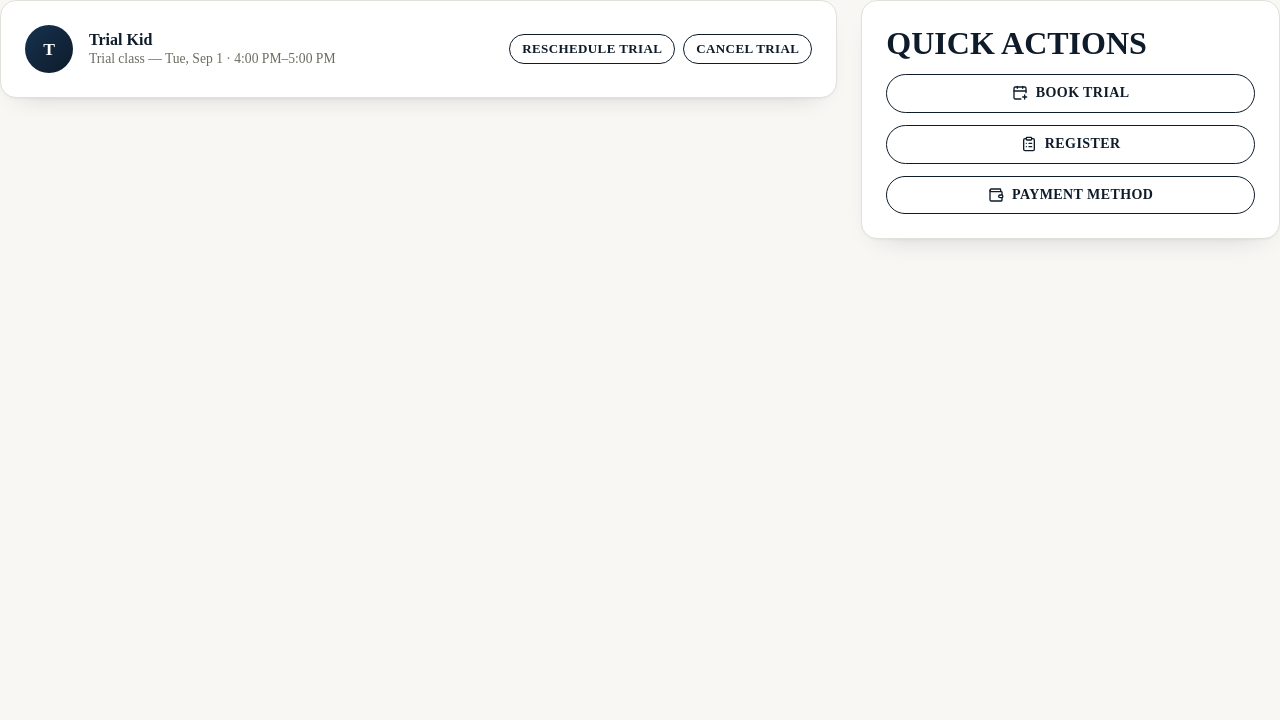
Test case: ParentDashboardPage › trial Reschedule / Cancel › cancels the trial and reloads the household, so the child is offered a new trial
Click the button "Cancel trial".
click(748, 49)  # box left=683, top=34, right=812, bottom=64
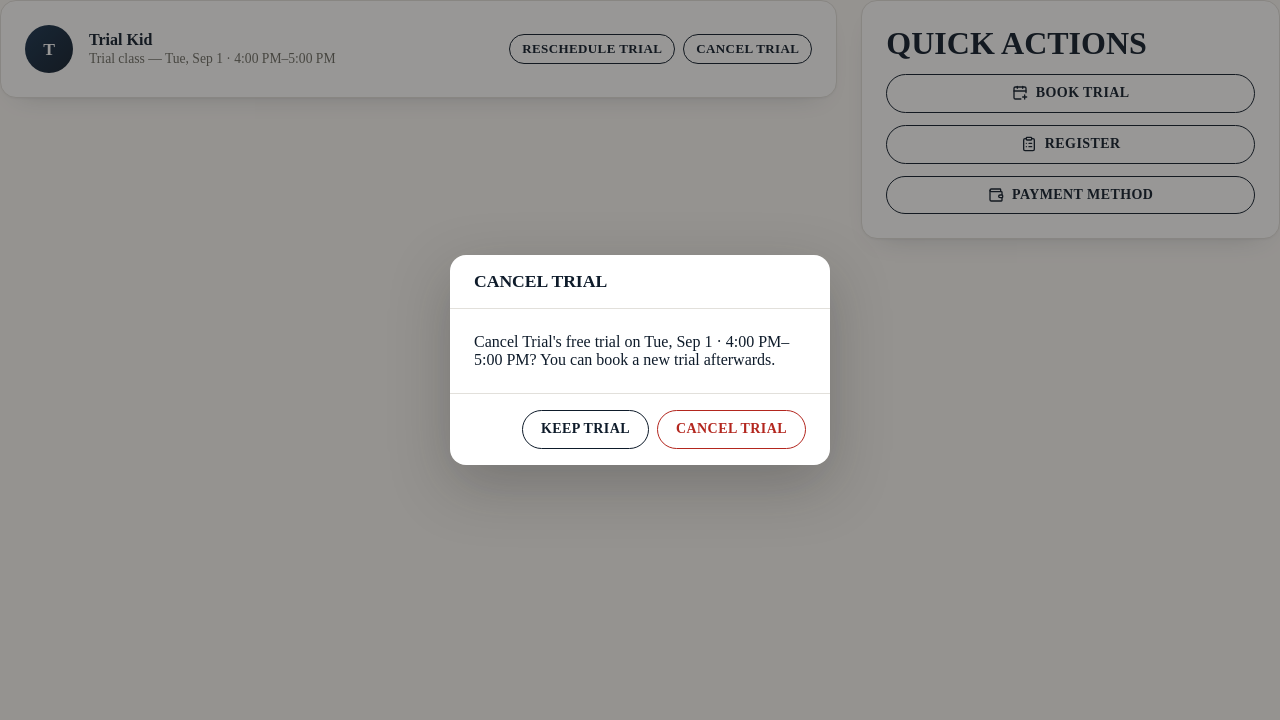
Click the button "Cancel Trial".
click(732, 430)  # box left=657, top=410, right=806, bottom=449
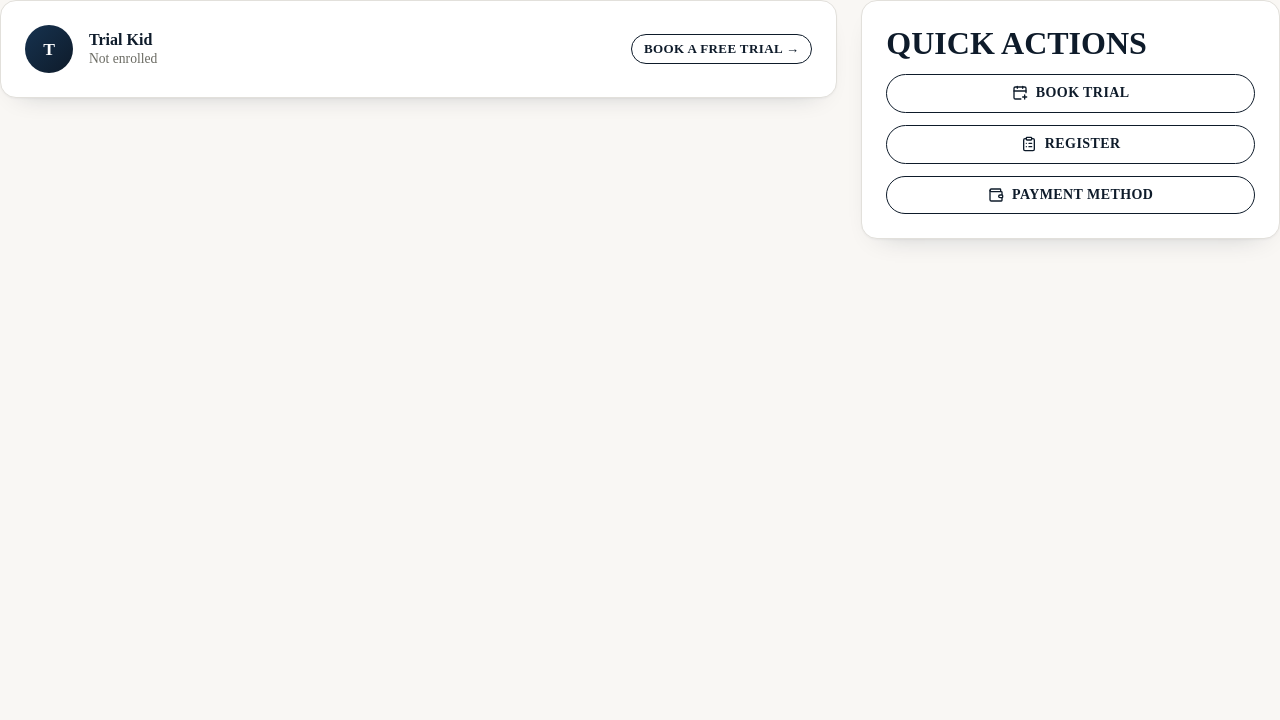
expect the text "Not enrolled" is shown: met, box left=89, top=51, right=157, bottom=66
expect the link "Book a free trial →" is shown: met, box left=631, top=34, right=812, bottom=64
expect the dialog is gone: met
